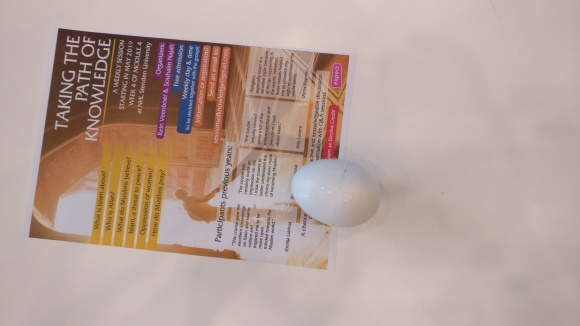egg: (290, 158, 381, 228)
